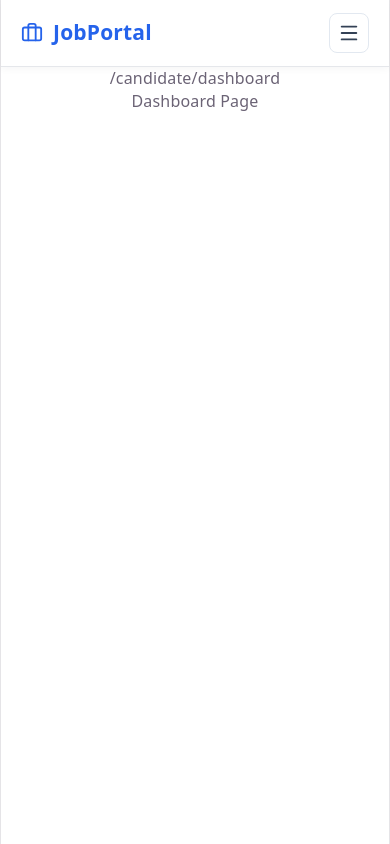
Scenario: CandidateNavbar › opens the mobile menu
The image size is (390, 844).
What coordinates should you click on to do the following:
click the button named "toggle navigation"
I would click on:
 (349, 33)
Its box is [329,13,369,53].
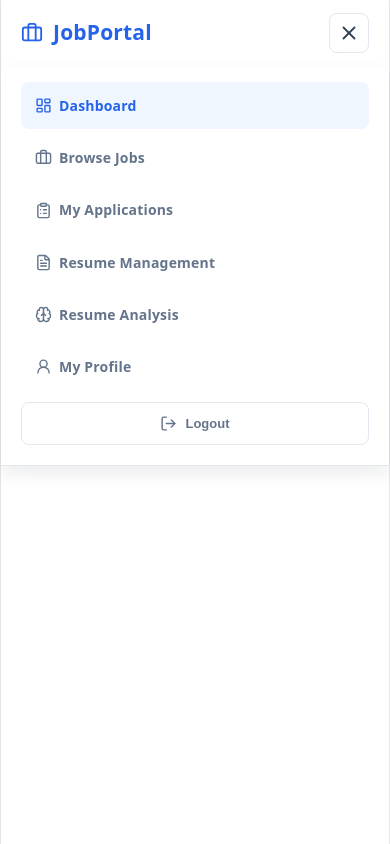
Result: the button named "toggle navigation" is expanded at [329,13,369,53]
